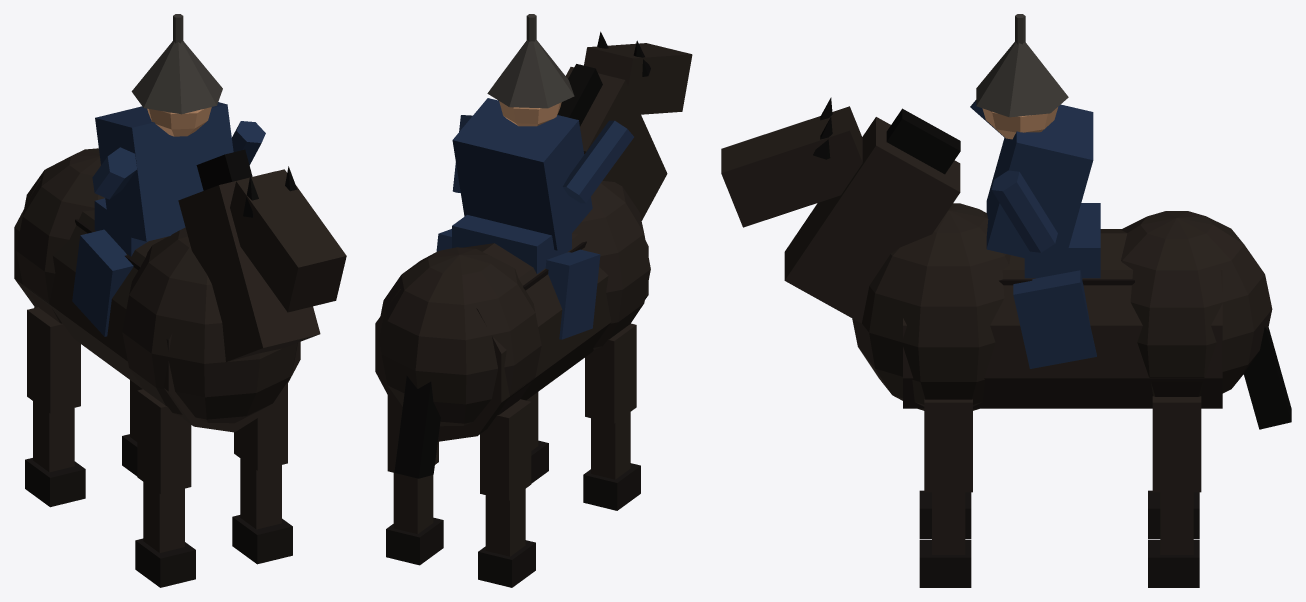
File: cavalry.glb
The picture shows the model from 3 angles, left to right: view 1: azimuth 30°, elevation 25°; view 2: azimuth 150°, elevation 25°; view 3: azimuth 270°, elevation 25°; orthographic projection. The views are drawn at different scales.
Parts seen in each view (by area): view 1: 구체.001, 큐브.008, 큐브, 큐브.002, Leg_BR, Leg_FR, Leg_FL, 실린더, 구체, 원뿔.002, 큐브.006, 실린더.003 (+5 smaller); view 2: 구체, 큐브.008, Leg_BR, 실린더, Leg_FR, 구체.001, 큐브, Leg_BL, 큐브.002, 원뿔.002, 큐브.003, 큐브.006 (+5 smaller); view 3: 구체.001, 구체, 실린더, 큐브, 큐브.002, 큐브.008, Leg_BL, Leg_FL, 큐브.007, 원뿔.002, 큐브.003, 실린더.002 (+5 smaller).
Boxes of the visible parts, <box> form: 구체.001: <box>122,227,297,423</box>; 큐브.008: <box>95,102,233,241</box>; 큐브: <box>178,171,320,361</box>; 큐브.002: <box>230,169,346,312</box>; Leg_BR: <box>25,307,85,507</box>; Leg_FR: <box>135,389,195,587</box>; Leg_FL: <box>232,384,292,564</box>; 실린더: <box>14,179,300,432</box>; 구체: <box>16,148,104,323</box>; 원뿔.002: <box>131,41,222,114</box>; 큐브.006: <box>72,229,133,336</box>; 실린더.003: <box>92,147,136,199</box>; 구체: <box>378,247,541,426</box>; 큐브.008: <box>452,98,592,250</box>; Leg_BR: <box>478,399,535,587</box>; 실린더: <box>375,234,648,441</box>; Leg_FR: <box>583,323,640,510</box>; 구체.001: <box>572,181,650,349</box>; 큐브: <box>566,67,667,220</box>; Leg_BL: <box>386,395,443,565</box>; 큐브.002: <box>584,43,692,114</box>; 원뿔.002: <box>487,40,574,108</box>; 큐브.003: <box>394,376,440,478</box>; 큐브.006: <box>545,249,600,339</box>; 구체.001: <box>852,203,1010,410</box>; 구체: <box>1121,211,1272,396</box>; 실린더: <box>903,229,1222,408</box>; 큐브: <box>784,117,960,323</box>; 큐브.002: <box>721,106,862,227</box>; 큐브.008: <box>986,104,1093,266</box>; Leg_BL: <box>1148,396,1201,587</box>; Leg_FL: <box>919,399,972,587</box>; 큐브.007: <box>1013,270,1096,368</box>; 원뿔.002: <box>976,42,1068,117</box>; 큐브.003: <box>1243,326,1291,429</box>; 실린더.002: <box>991,170,1057,252</box>.
Bounding box in the file's own units: 1.31 × 3.9 × 3.75.
